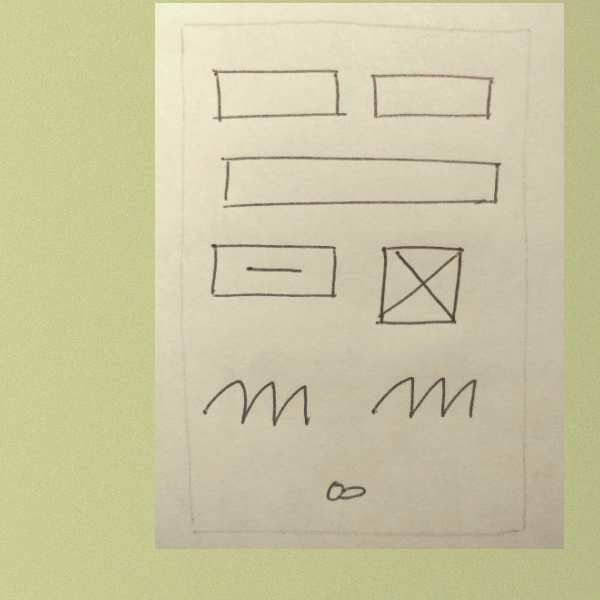button: (204, 237, 343, 308)
image: (373, 241, 471, 331)
switch: (313, 472, 374, 512)
text: (196, 371, 313, 436), (364, 368, 484, 428)
text_input: (214, 151, 506, 212), (205, 65, 353, 124), (366, 69, 496, 128)
